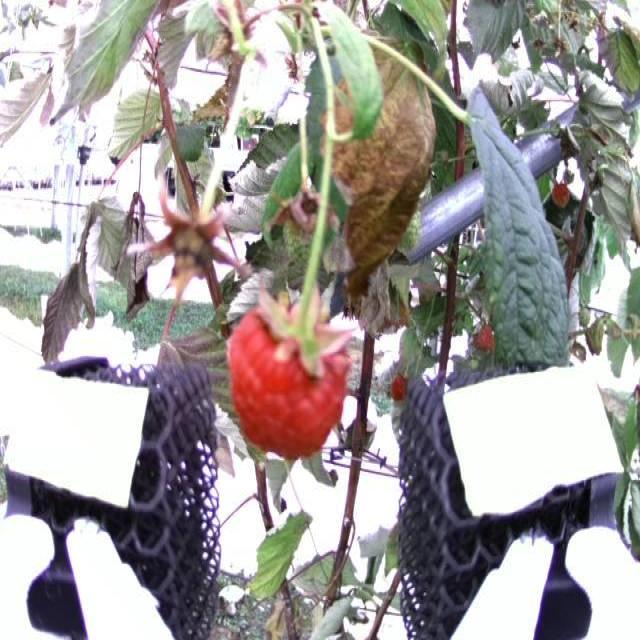Riped berries: (229, 277, 351, 459)
